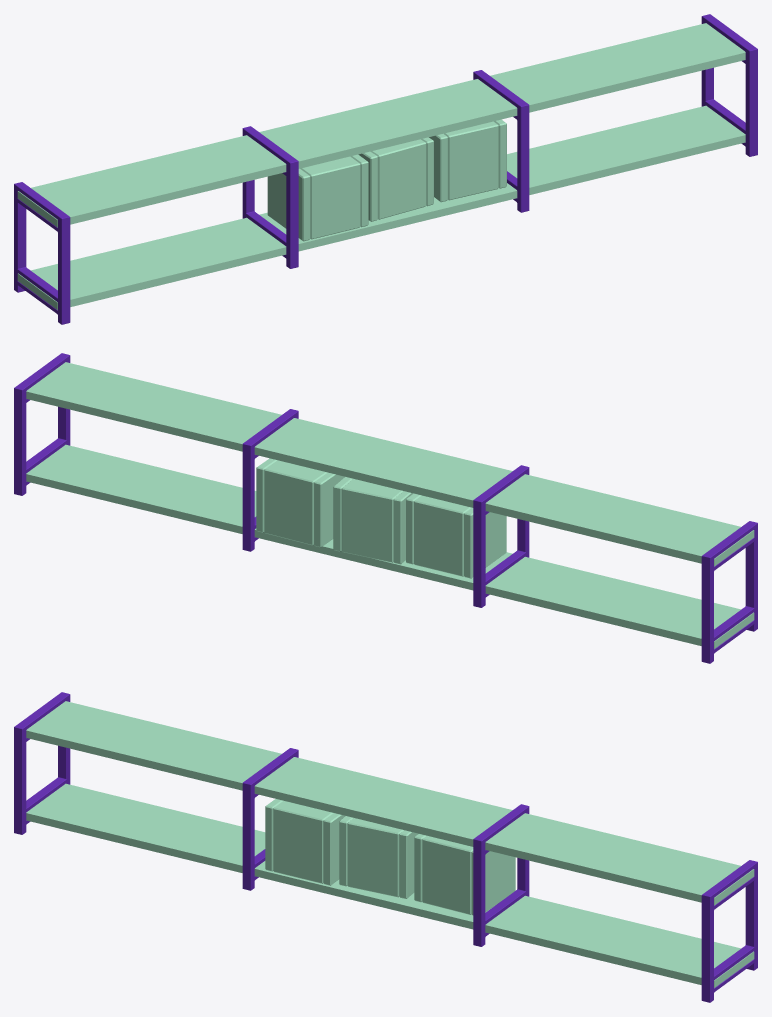
The model's file is House_TVCabinet.FBX.
3 views of the same model, one above another, from view 1: azimuth 30°, elevation 25°; view 2: azimuth 150°, elevation 25°; view 3: azimuth 330°, elevation 25° (orthographic).
Visible parts, largest first — view 1: House_TVCabinet_Wood, House_TVCabinet_Metal; view 2: House_TVCabinet_Wood, House_TVCabinet_Metal; view 3: House_TVCabinet_Wood, House_TVCabinet_Metal.
Part boxes in pixels (x1=…): House_TVCabinet_Wood: x1=17, y1=23, x2=745, y2=309; House_TVCabinet_Metal: x1=14, y1=14, x2=757, y2=324; House_TVCabinet_Wood: x1=26, y1=362, x2=754, y2=648; House_TVCabinet_Metal: x1=14, y1=353, x2=757, y2=663; House_TVCabinet_Wood: x1=26, y1=701, x2=754, y2=987; House_TVCabinet_Metal: x1=14, y1=692, x2=757, y2=1002.
Size of the model in its own units: 347 by 50.65 by 41.36.
